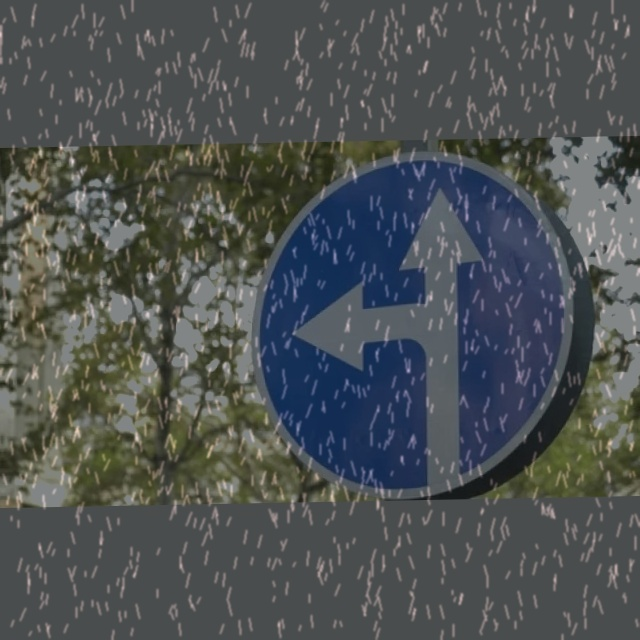Compulsory_Ahead_or_Turn_Left: (250, 150, 597, 493)
